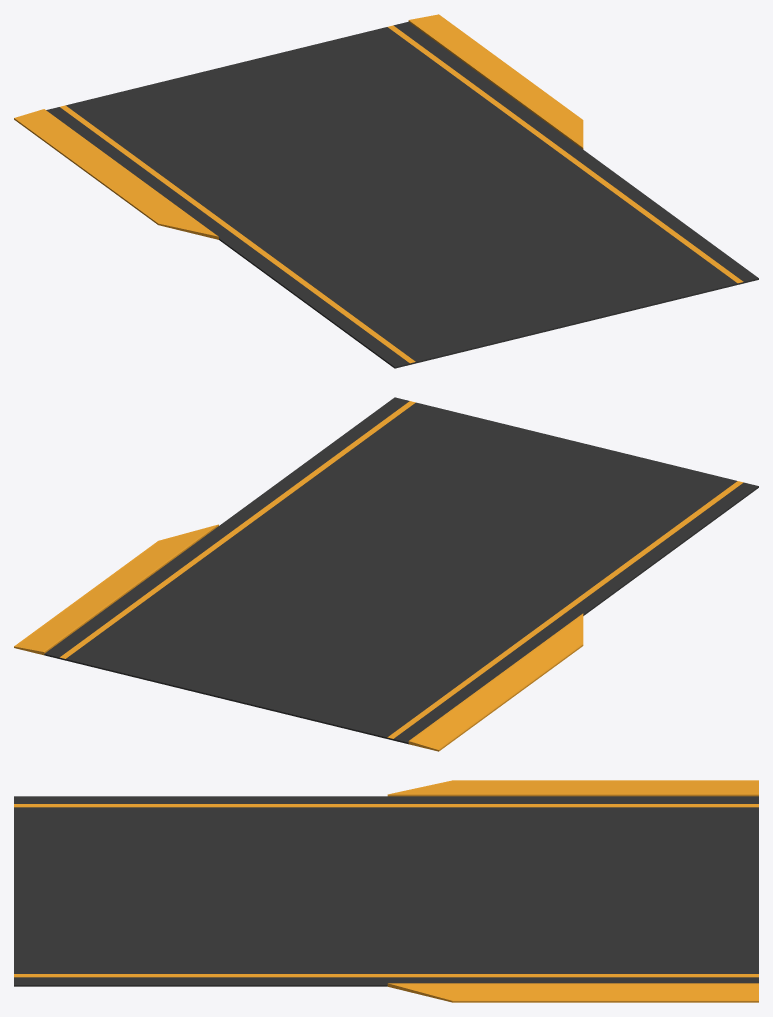
File: SM_Racetrack_RunOff_End_Straight_20x20m.fbx
3 views of the same model, one above another, from view 1: azimuth 30°, elevation 25°; view 2: azimuth 150°, elevation 25°; view 3: azimuth 270°, elevation 25° (orthographic). The views are drawn at different scales.
Parts seen in each view (by area): view 1: SM_Racetrack_RunOff_End_Straight_20x20m; view 2: SM_Racetrack_RunOff_End_Straight_20x20m; view 3: SM_Racetrack_RunOff_End_Straight_20x20m.
Part boxes in pixels (bbox=[...]): SM_Racetrack_RunOff_End_Straight_20x20m: bbox=[14, 14, 758, 368]; SM_Racetrack_RunOff_End_Straight_20x20m: bbox=[14, 397, 758, 751]; SM_Racetrack_RunOff_End_Straight_20x20m: bbox=[14, 780, 758, 1002].
Bounding box in the file's own units: 14 × 0.1 × 20.
